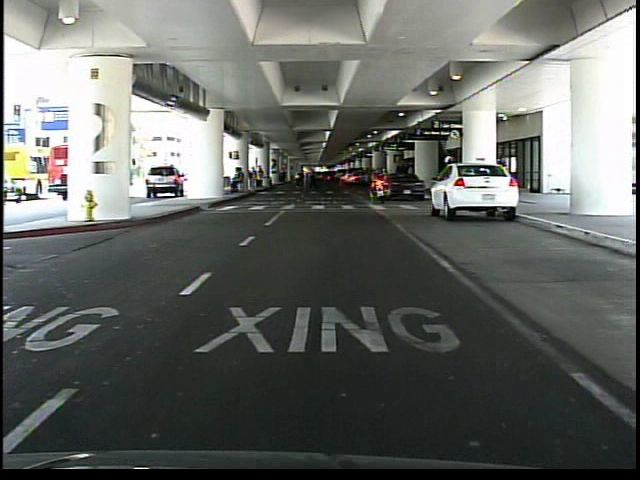person: (439, 151, 457, 213)
